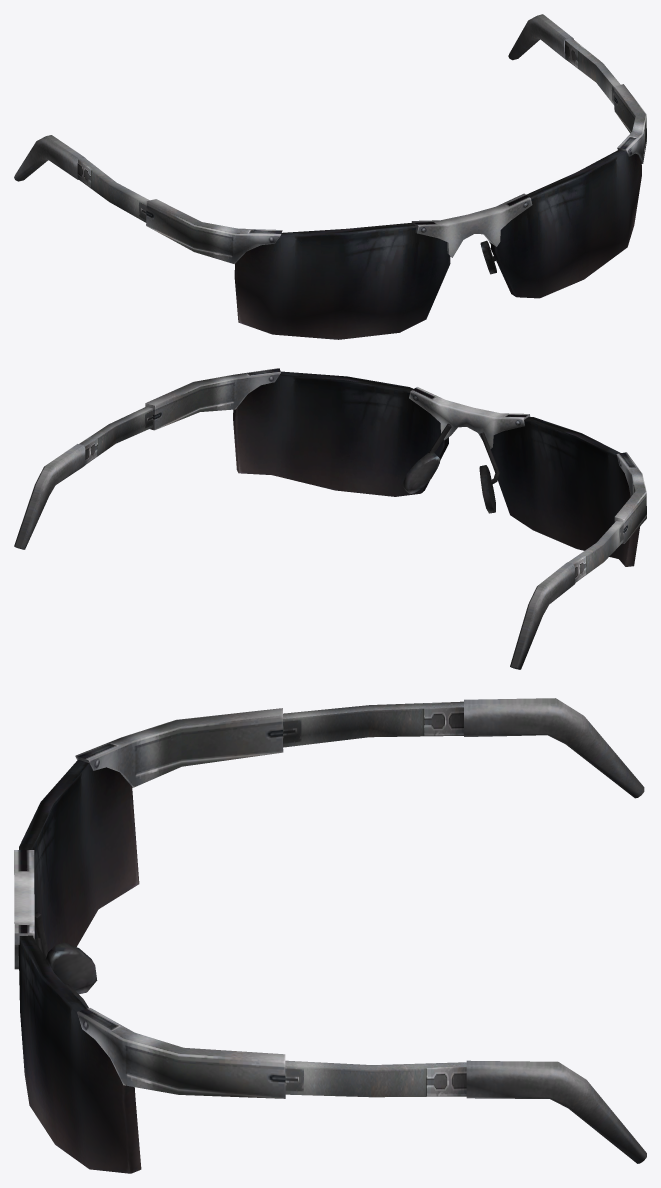
The picture shows the model from 3 angles, top to bottom: view 1: azimuth 30°, elevation 25°; view 2: azimuth 150°, elevation 25°; view 3: azimuth 270°, elevation 25°; orthographic projection. The views are drawn at different scales.
Parts seen in each view (by area): view 1: glass; view 2: glass; view 3: glass.
Part boxes in pixels (x1=…): glass: x1=14, y1=14, x2=646, y2=339; glass: x1=14, y1=368, x2=646, y2=669; glass: x1=14, y1=698, x2=646, y2=1173.
Bounding box in the file's own units: 49.06 × 10.52 × 35.19.
1 material, 1 textured.
